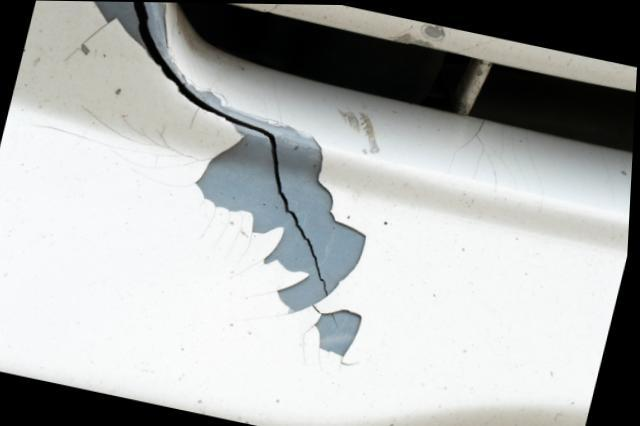crack: (131, 2, 344, 329)
